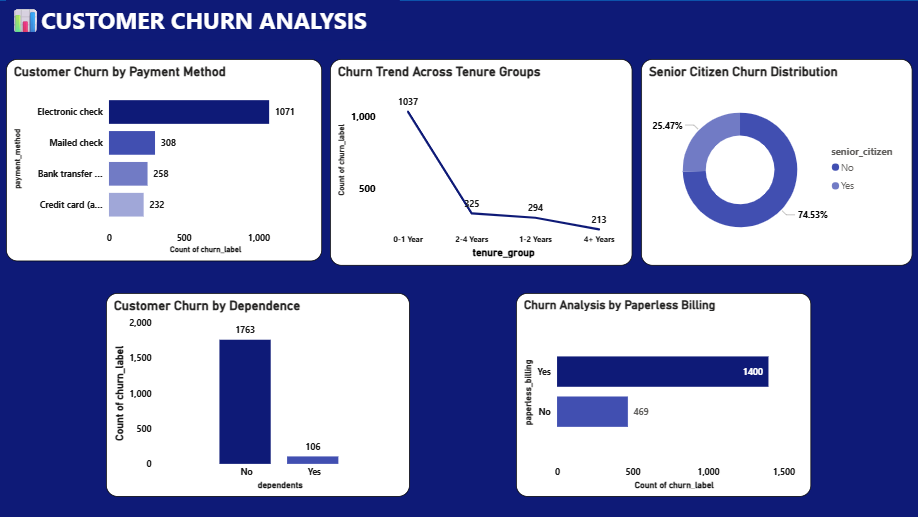

The page's visual inventory and layout, read from the dashboard file:
{"tool":"powerbi","page":{"name":"Page 2","canvas":[1280,720],"ordinal":1},"visuals":[{"type":"shape","box":[0,0,1280.6,719.4],"z":0},{"type":"textbox","box":[10,0,547.1,55.7],"z":1000},{"type":"clusteredBarChart","title":"Customer Churn by Payment Method","fields":{"Y":["CountNonNull(customer_churn_final_dashboard.churn_label)"],"Category":["customer_churn_final_dashboard.payment_method"]},"box":[10,81.4,438.6,281.4],"z":2000},{"type":"donutChart","title":"Senior Citizen Churn Distribution","fields":{"Category":["customer_churn_final_dashboard.senior_citizen"],"Y":["CountNonNull(customer_churn_final_dashboard.churn_label)"]},"box":[891.4,81.4,377.1,287.1],"z":3000},{"type":"columnChart","title":"Customer Churn by Dependence","fields":{"Category":["customer_churn_final_dashboard.dependents"],"Y":["CountNonNull(customer_churn_final_dashboard.churn_label)"]},"box":[148.6,406.9,422.2,283.3],"z":4000},{"type":"lineChart","title":"Churn Trend Across Tenure Groups","fields":{"Category":["customer_churn_final_dashboard.tenure_group"],"Y":["CountNonNull(customer_churn_final_dashboard.churn_label)"]},"box":[460,81.4,420,287.1],"z":5000},{"type":"barChart","title":"Churn Analysis by Paperless Billing","fields":{"Category":["customer_churn_final_dashboard.paperless_billing"],"Y":["CountNonNull(customer_churn_final_dashboard.churn_label)"]},"box":[718.1,406.9,409.7,283.3],"z":6000}]}

Visuals, with their boxes in screenshot pixels (x1, y1, x2, y2), scaled from the page's 1280x720 canvas onto the 918x517 screenshot:
shape: [left=0, top=0, right=917, bottom=516]
textbox: [left=7, top=0, right=400, bottom=40]
"Customer Churn by Payment Method" clusteredBarChart: [left=7, top=58, right=322, bottom=261]
"Senior Citizen Churn Distribution" donutChart: [left=639, top=58, right=910, bottom=265]
"Customer Churn by Dependence" columnChart: [left=107, top=292, right=409, bottom=496]
"Churn Trend Across Tenure Groups" lineChart: [left=330, top=58, right=631, bottom=265]
"Churn Analysis by Paperless Billing" barChart: [left=515, top=292, right=809, bottom=496]
